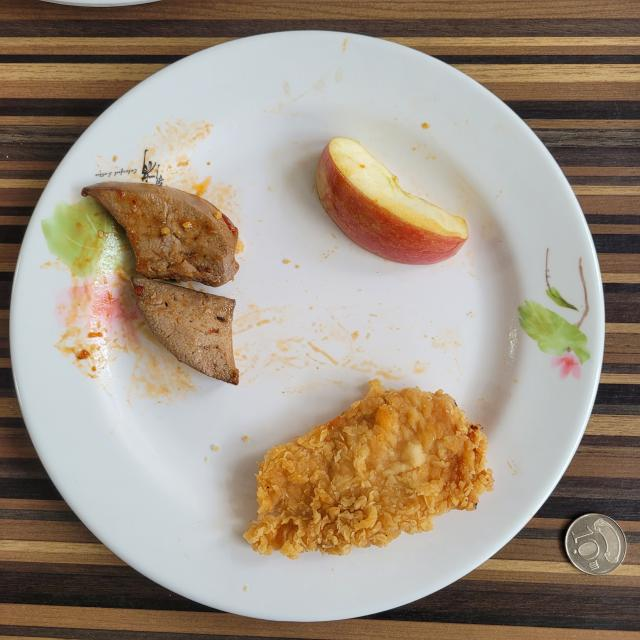apple -sliced-: (316, 138, 469, 264)
coin: (565, 514, 626, 575)
fried chicken cutlet: (244, 379, 494, 559)
pig liver: (81, 181, 239, 385)
